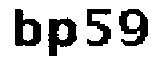5: (85, 7, 116, 50)
9: (117, 7, 150, 54)
b: (10, 4, 41, 50)
p: (45, 15, 80, 57)
